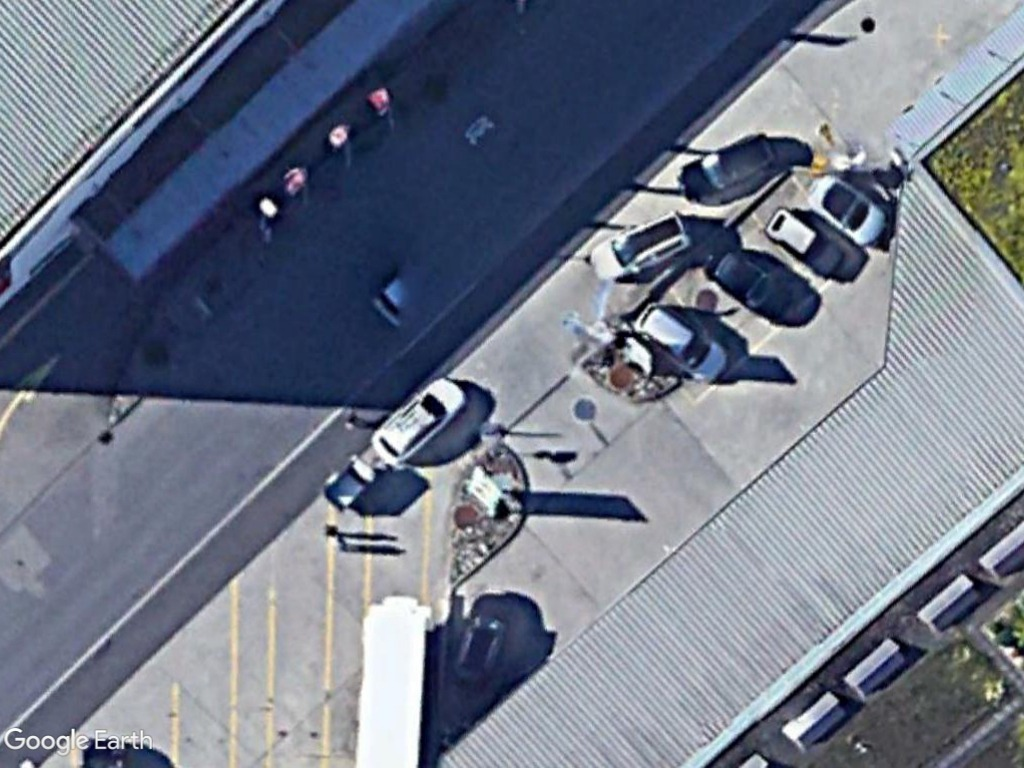car: (368, 373, 467, 468), (628, 301, 732, 387), (586, 209, 693, 288), (678, 133, 779, 204), (758, 207, 853, 280)
